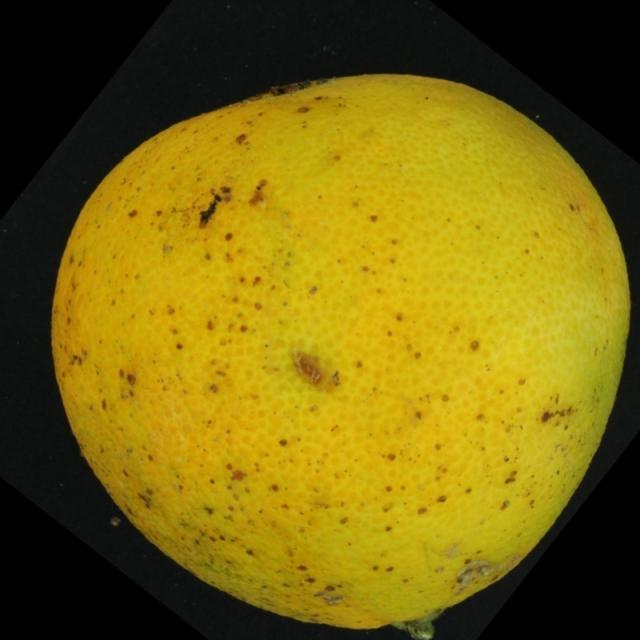grenning: (36, 48, 637, 633)
